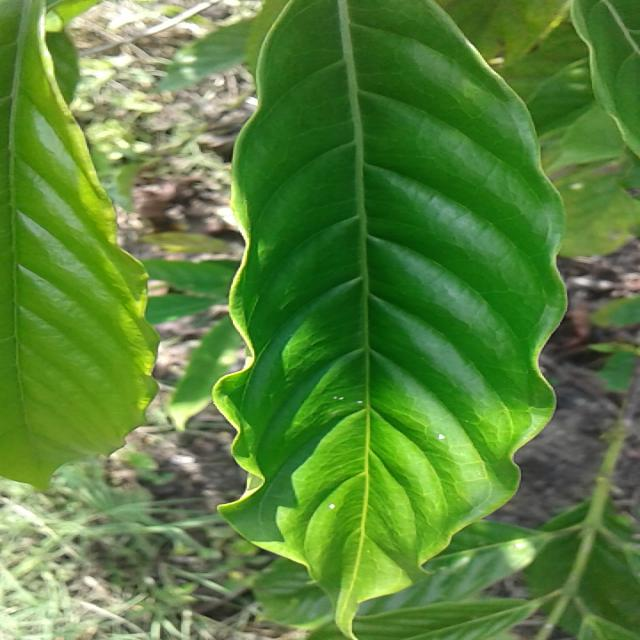Sanas: (211, 0, 567, 640)
